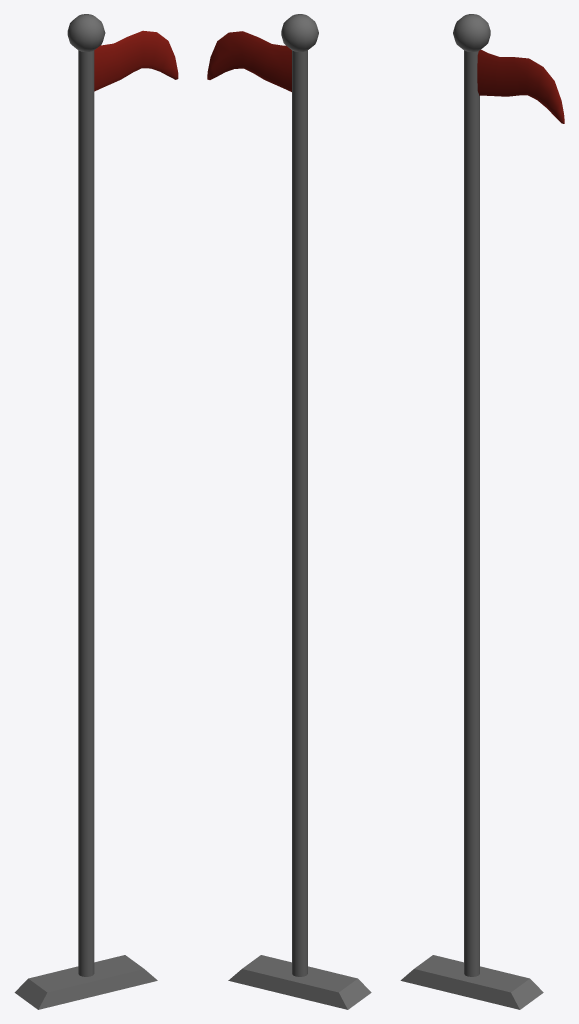
Rendered from Flag.glb.
3 renders of one model, left to right at view 1: azimuth 30°, elevation 25°; view 2: azimuth 150°, elevation 25°; view 3: azimuth 330°, elevation 25°, orthographic.
Visible parts, largest first — view 1: Goal_Flag; view 2: Goal_Flag; view 3: Goal_Flag.
Part boxes in pixels (x1,y1,x2,y2): Goal_Flag: [14, 14, 178, 1009]; Goal_Flag: [207, 14, 371, 1009]; Goal_Flag: [400, 14, 564, 1009].
Bounding box in the file's own units: 1.59 × 9.7 × 0.4297.
